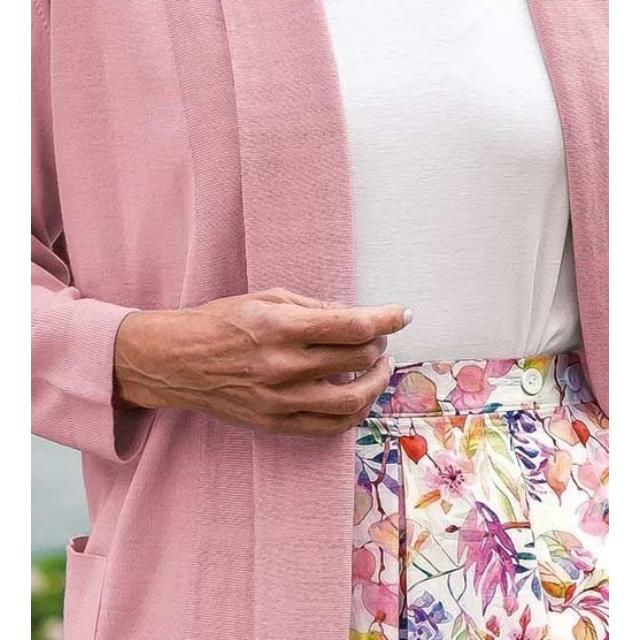wool: (31, 0, 609, 446)
